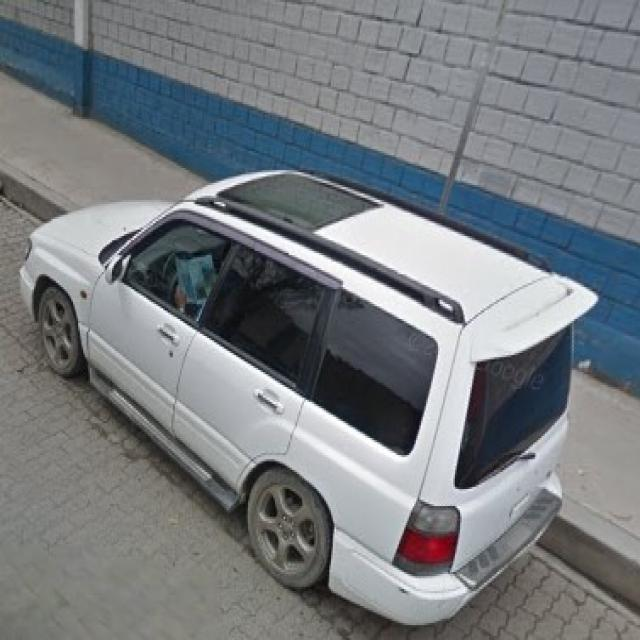Car: (38, 103, 597, 628)
